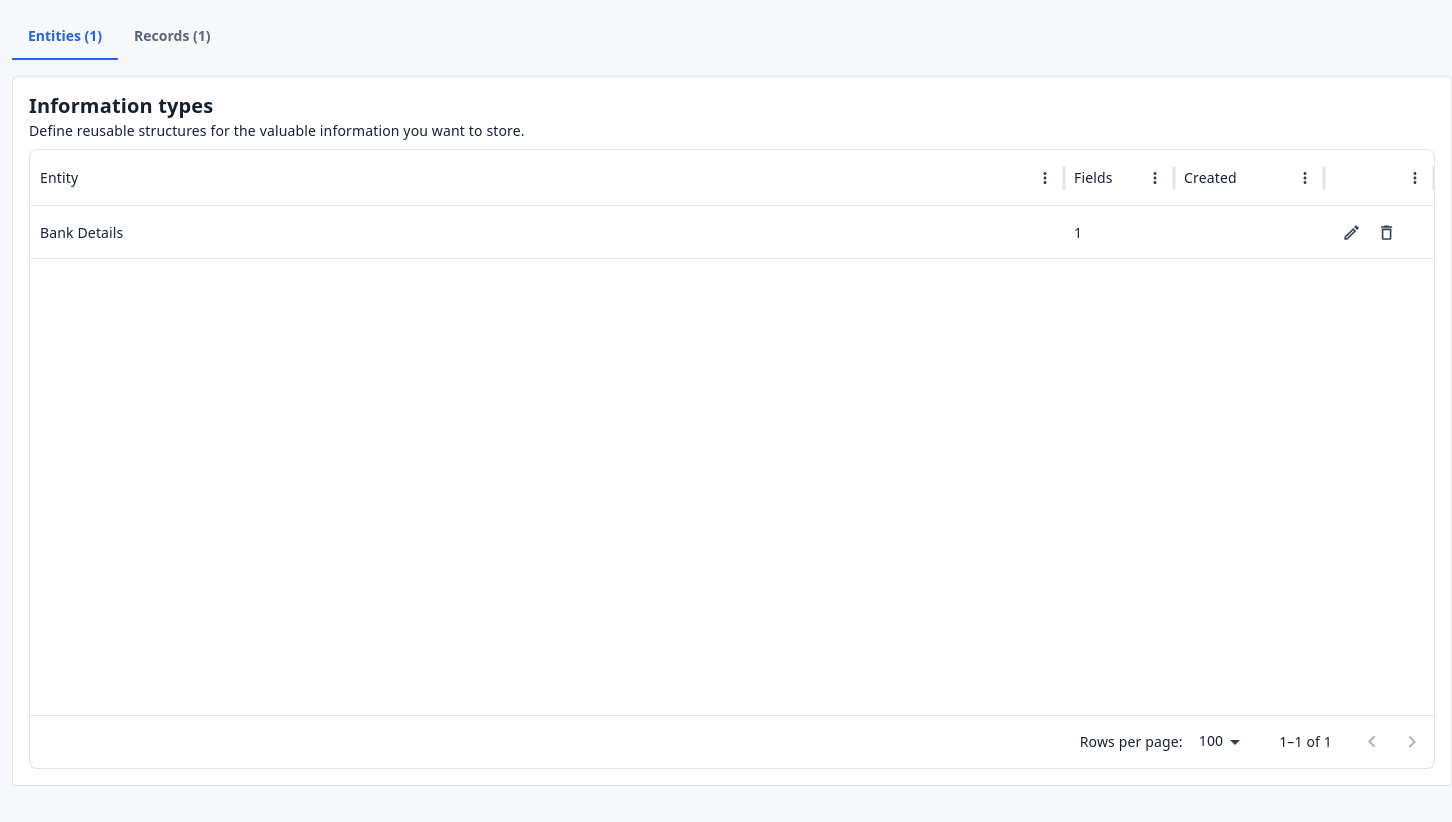
Test: Locker page › renders record rows with their entity label
The width and height of the screenshot is (1452, 822).
Click the tab "Records (1)" at (172, 36), box [118, 12, 226, 60]
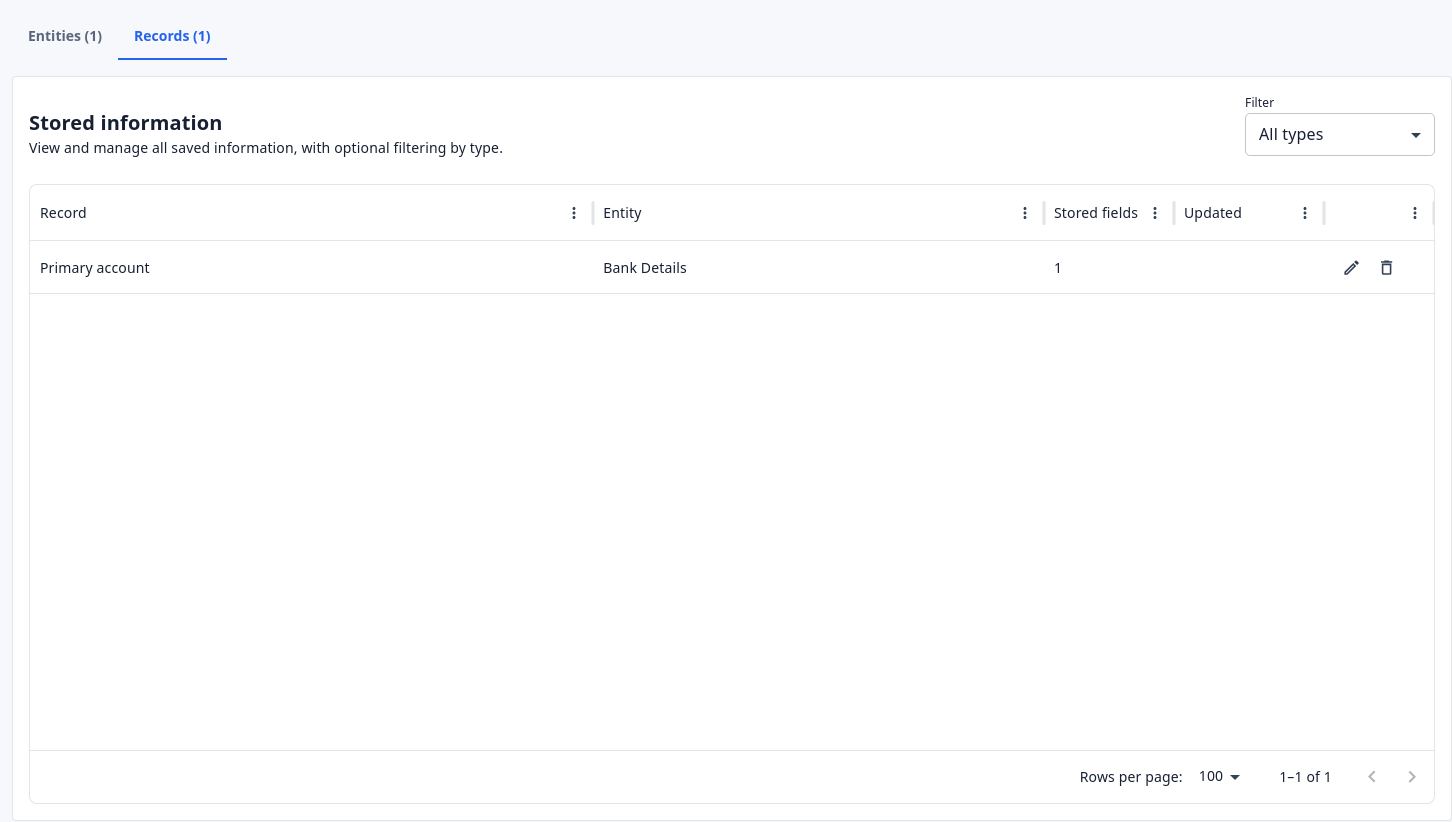
expect the text "Primary account" is shown: met, box [40, 258, 150, 277]
